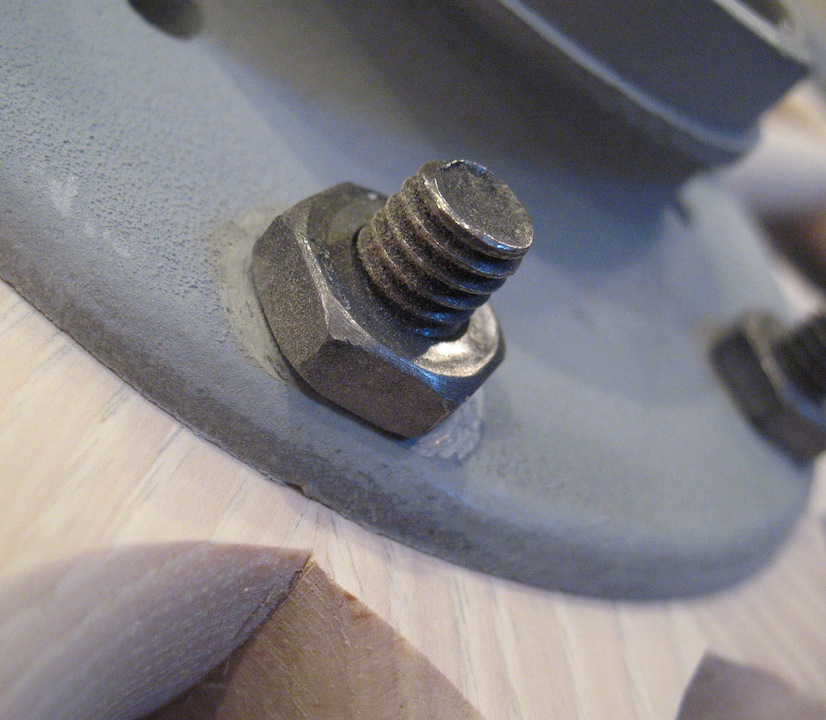bolt_b: (247, 172, 508, 444)
